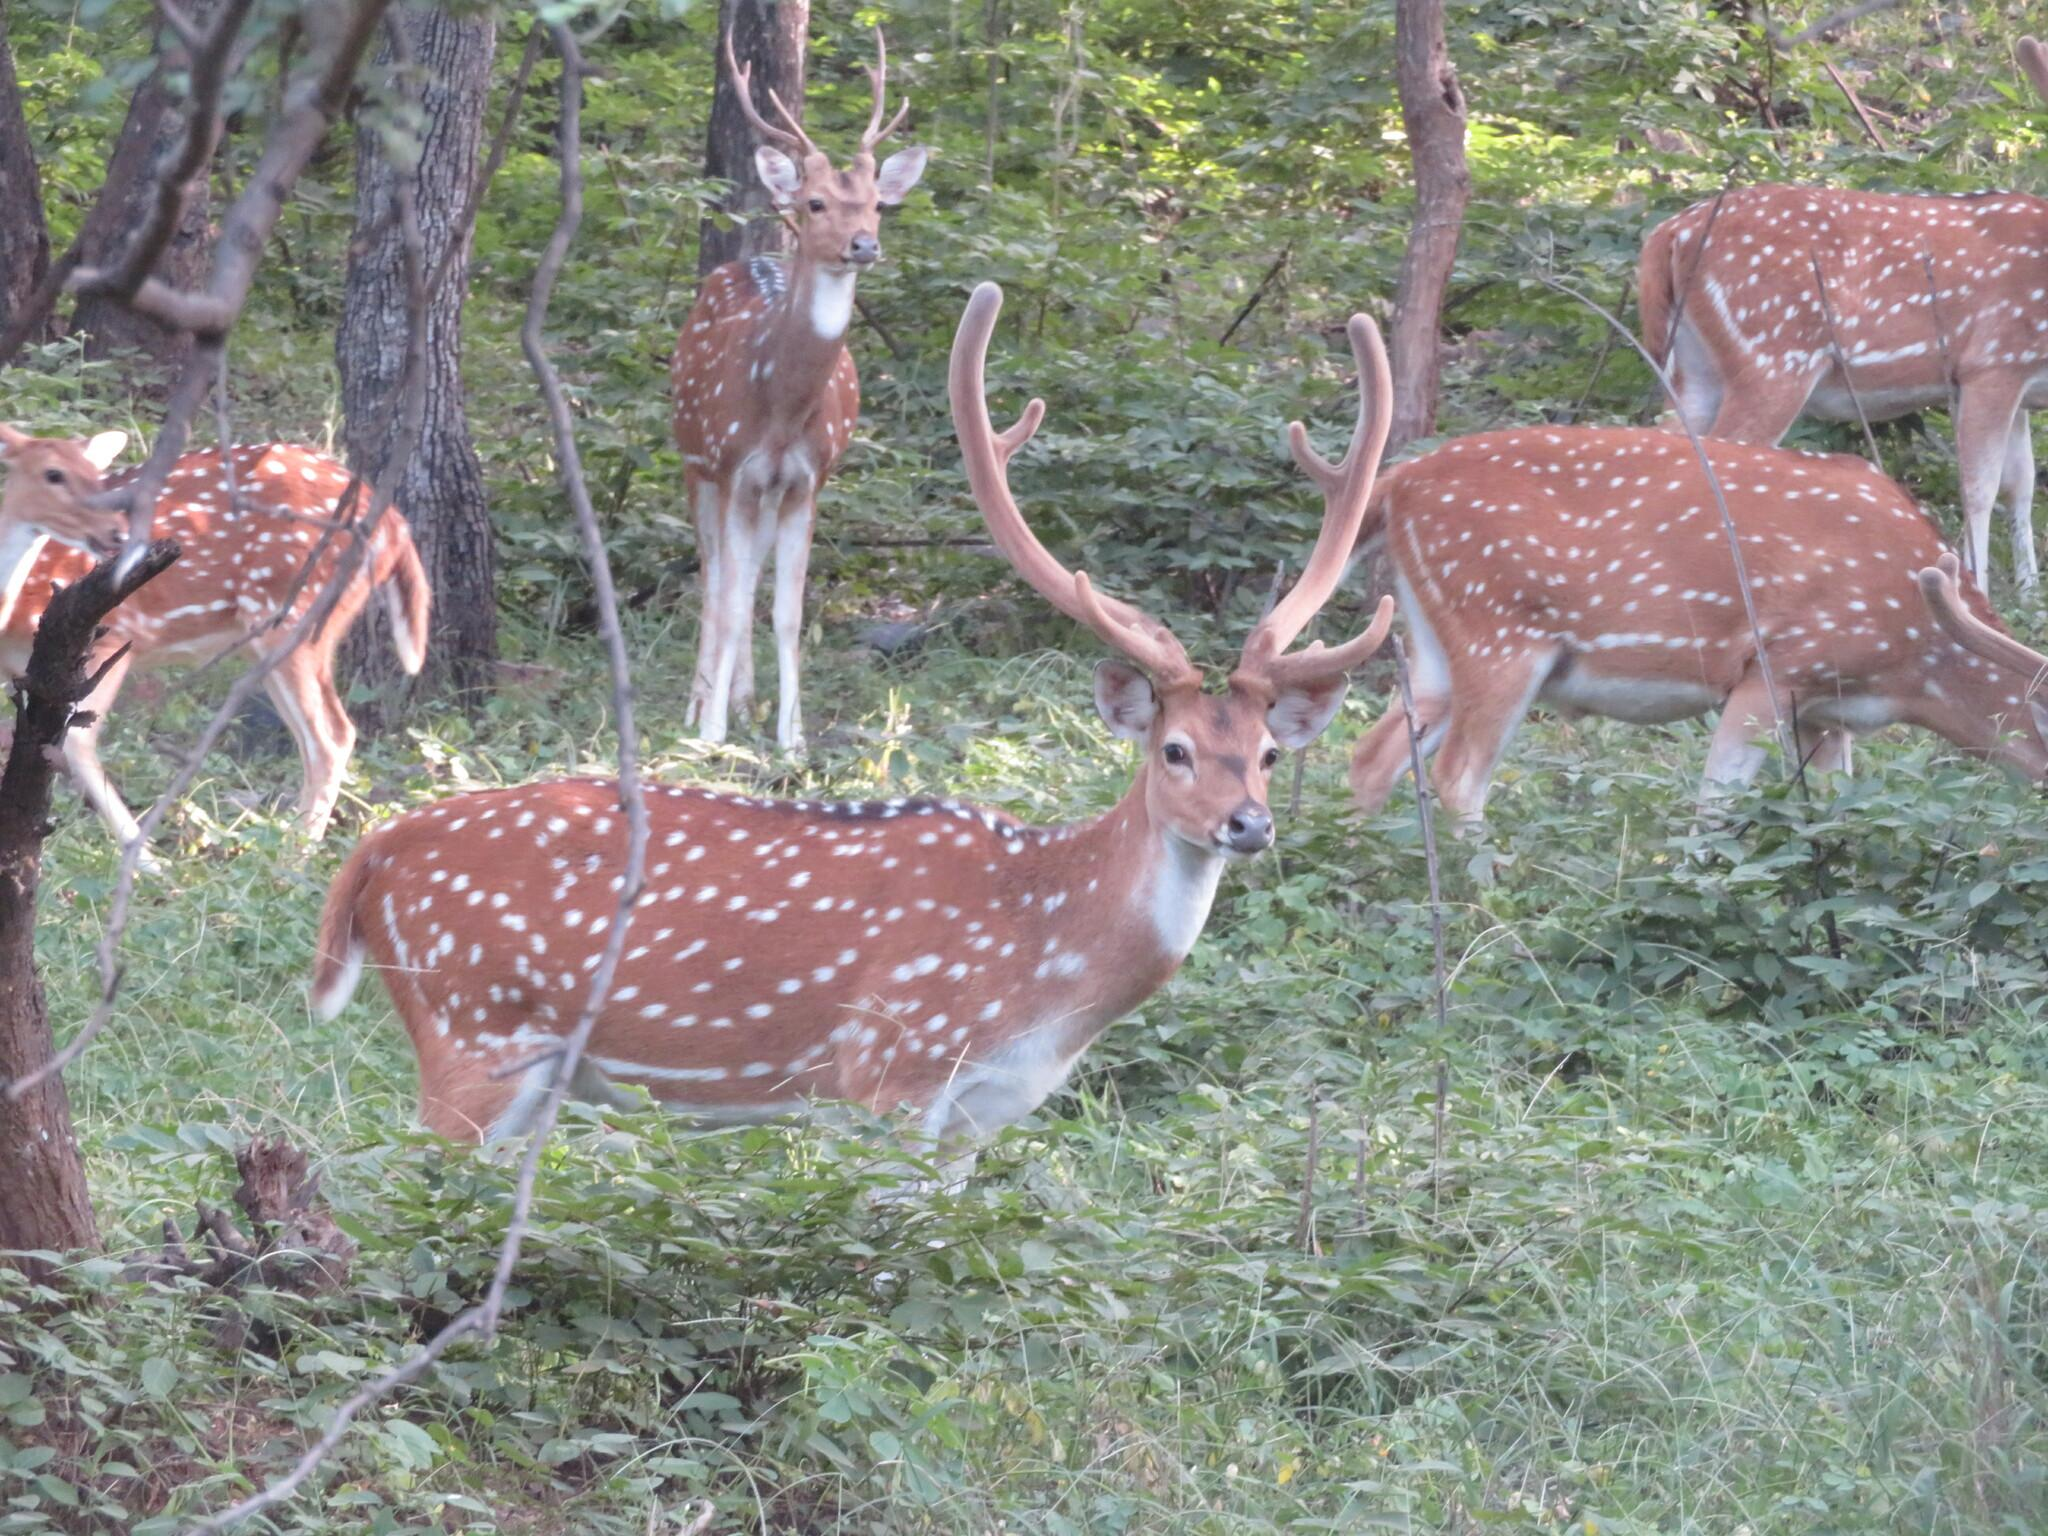Deer: (310, 282, 1392, 1141), (1350, 426, 2046, 820), (671, 24, 929, 750), (1634, 184, 2046, 584)
